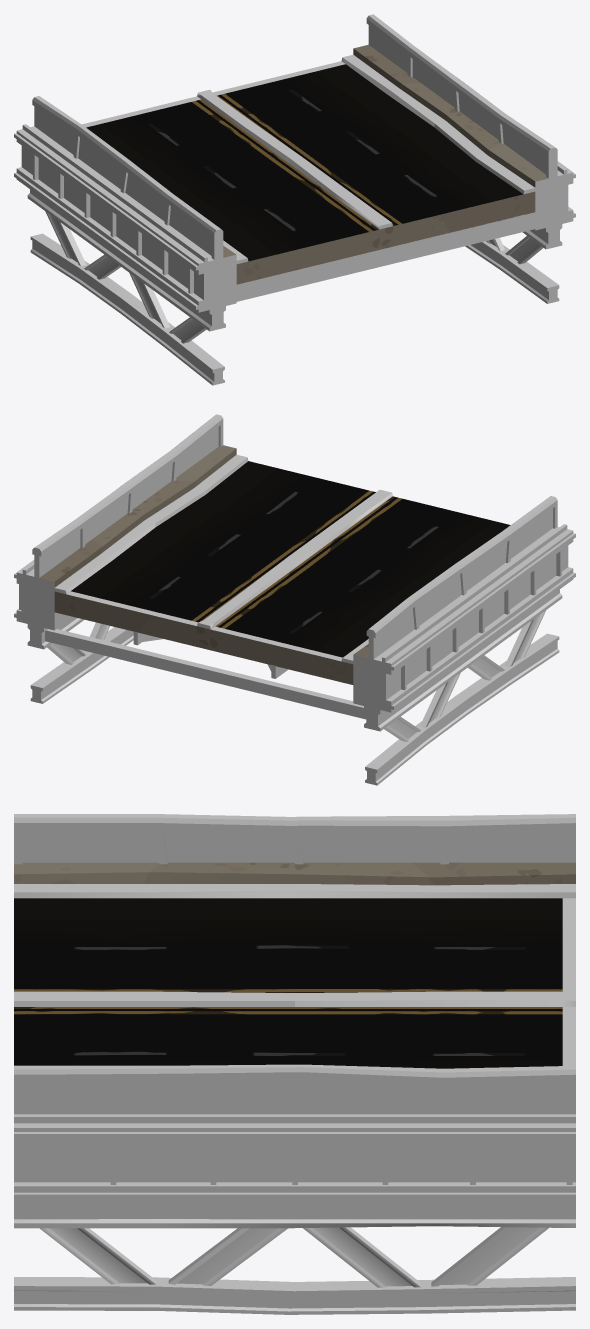
The model's file is SM_Bld_Bridge_Section_01.fbx.
The picture shows the model from 3 angles, top to bottom: view 1: azimuth 30°, elevation 25°; view 2: azimuth 150°, elevation 25°; view 3: azimuth 270°, elevation 25°; orthographic projection. The views are drawn at different scales.
Visible parts, largest first — view 1: SM_Bld_Bridge_Section_01; view 2: SM_Bld_Bridge_Section_01; view 3: SM_Bld_Bridge_Section_01.
Boxes of the visible parts, bbox=[...] form: SM_Bld_Bridge_Section_01: bbox=[14, 14, 575, 385]; SM_Bld_Bridge_Section_01: bbox=[14, 414, 575, 785]; SM_Bld_Bridge_Section_01: bbox=[14, 814, 575, 1314].
Size of the model in its own units: 2047 by 811 by 1699.
